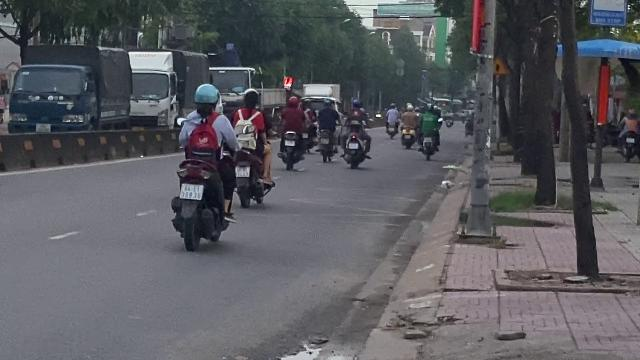helmet: (192, 82, 220, 112)
licenseplate: (180, 184, 202, 198), (236, 167, 250, 177)
motorcyclist: (168, 82, 236, 250), (230, 87, 280, 210)
nohelmet: (243, 90, 259, 110)
